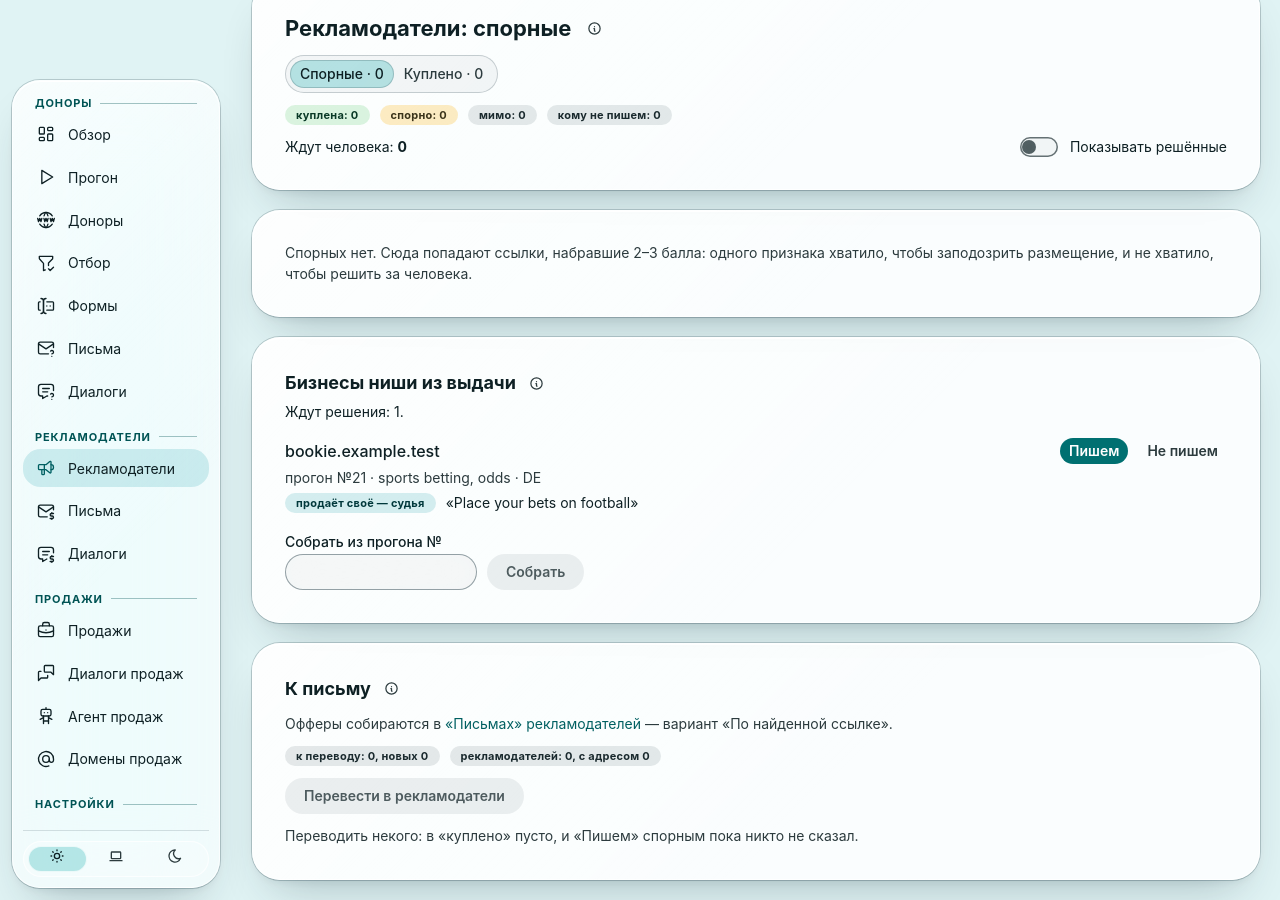
it: бизнесы ниши из выдачи › сбор из старого прогона говорит, сколько нашлось
This screenshot has width=1280, height=900.
(page scrolled)
Expected: the text "bookie.example.test" is shown, x1=285 y1=439 x2=440 y2=464
In the field labelled "Собрать из прогона №": (381, 572) x1=285 y1=554 x2=477 y2=590, type "18"
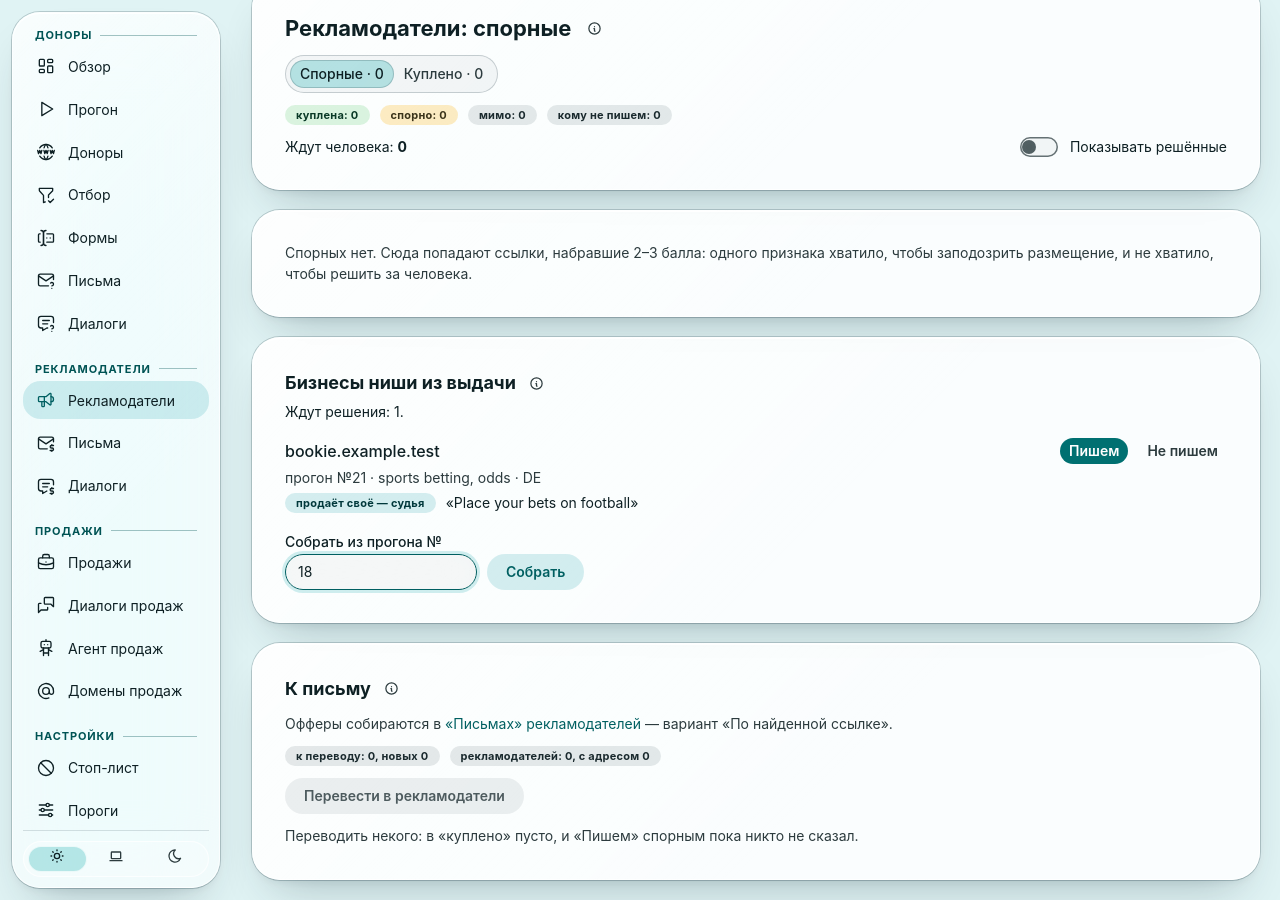
Click the button "Собрать": (536, 572) x1=487 y1=554 x2=584 y2=590
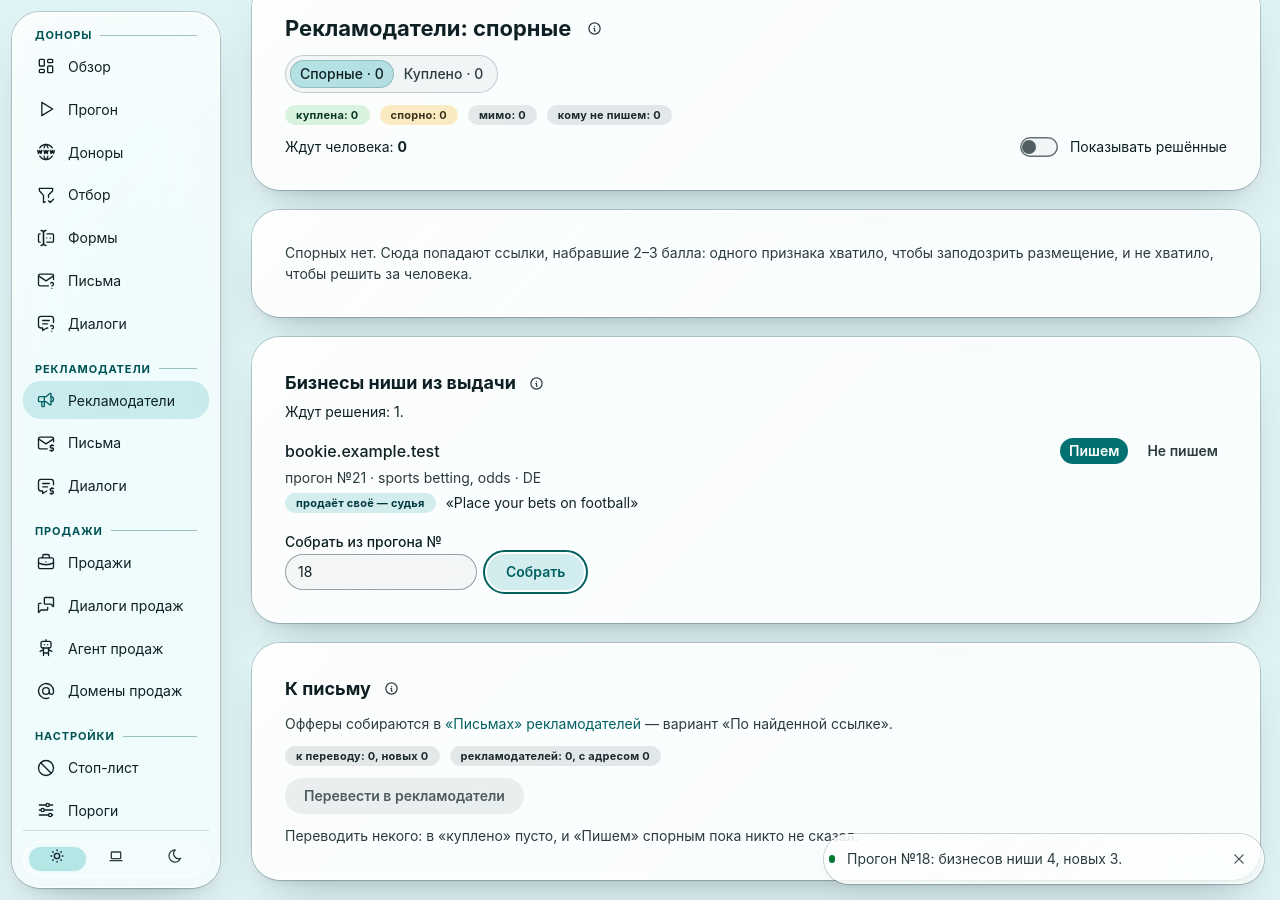
Result: the text "Прогон №18: бизнесов ниши 4, новых 3." is shown at x1=847 y1=850 x2=1122 y2=867
